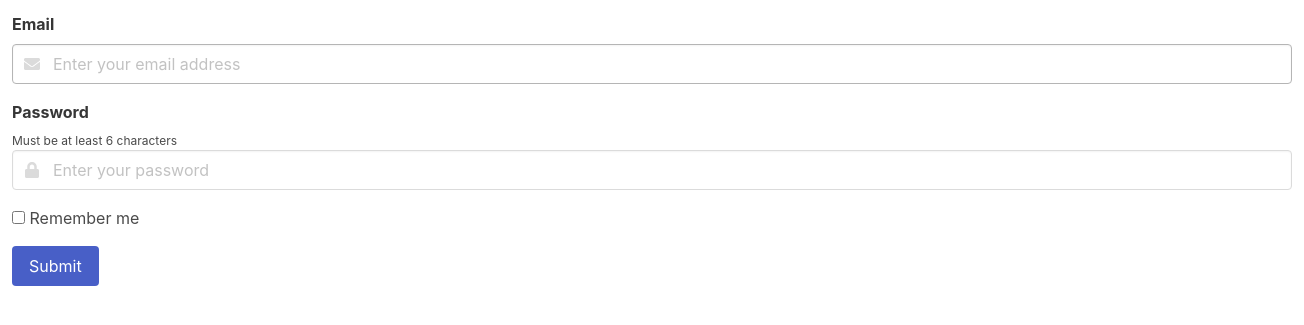
Test: <Login /> › password › should dynamically display an error message when the password field is empty
Type "johndoe@example.com" into the field labelled "Email" at {"x": 652, "y": 64}, box [12, 44, 1292, 84]
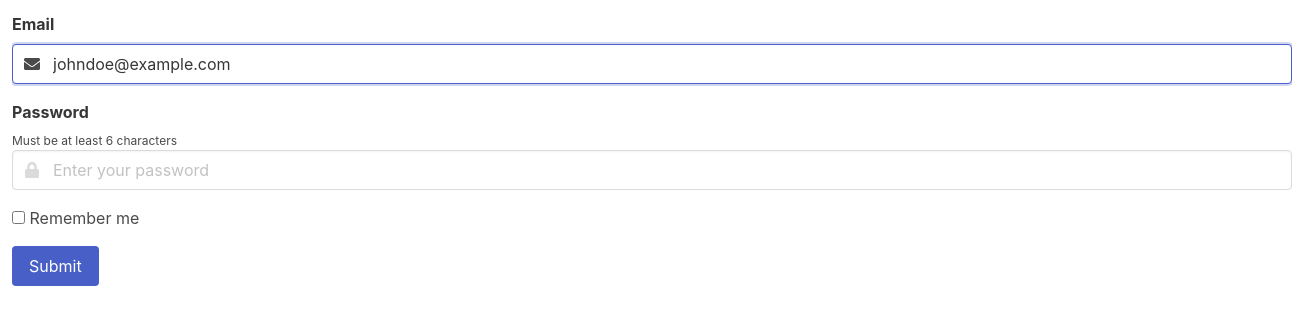
Leave the password field labelled "Password", box [12, 150, 1292, 190]
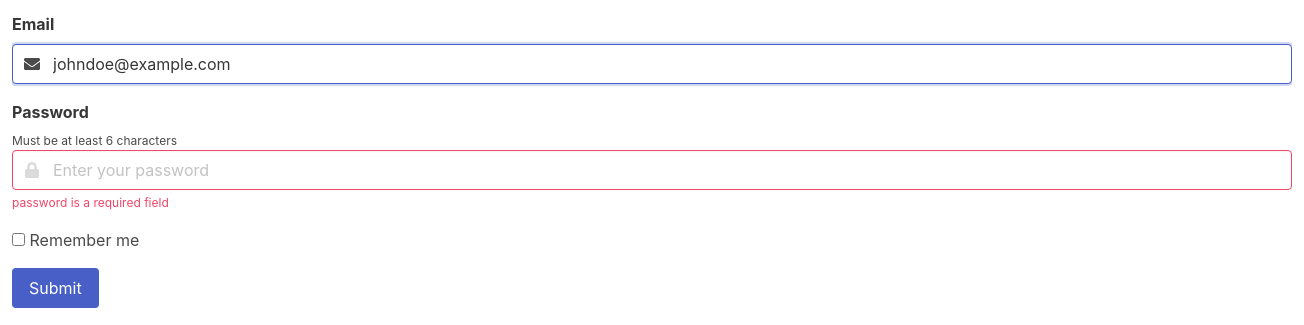
Result: the number of messages is 1 at [12, 195, 169, 210]
